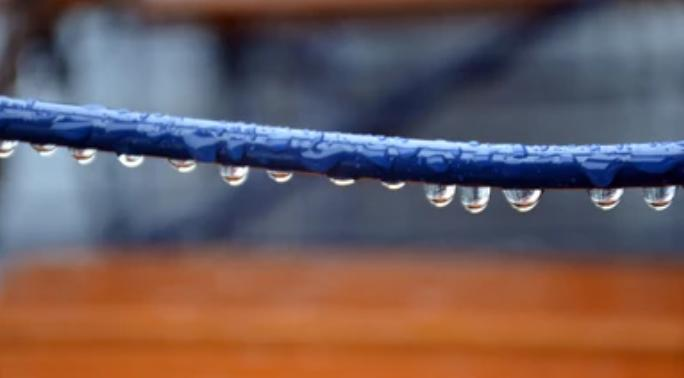water drop: (503, 186, 543, 211), (641, 185, 676, 210), (461, 184, 491, 213), (589, 186, 625, 209), (425, 183, 455, 207), (219, 164, 250, 185), (68, 145, 98, 163), (167, 157, 198, 173), (31, 140, 59, 155), (327, 173, 358, 186), (266, 169, 294, 183), (115, 153, 144, 166), (0, 141, 20, 156), (379, 179, 406, 189)
